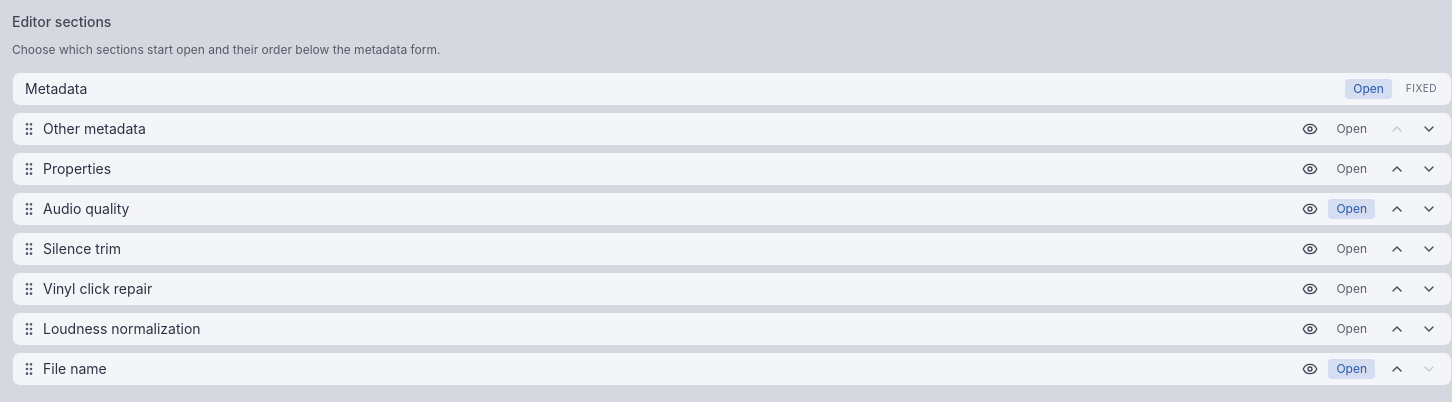
Scenario: LayoutTab sections › hints the eye with the styled tooltip, not a native title
Focus the button with test id "settings-section-hide-properties" at (1310, 168), box [1296, 158, 1324, 178]
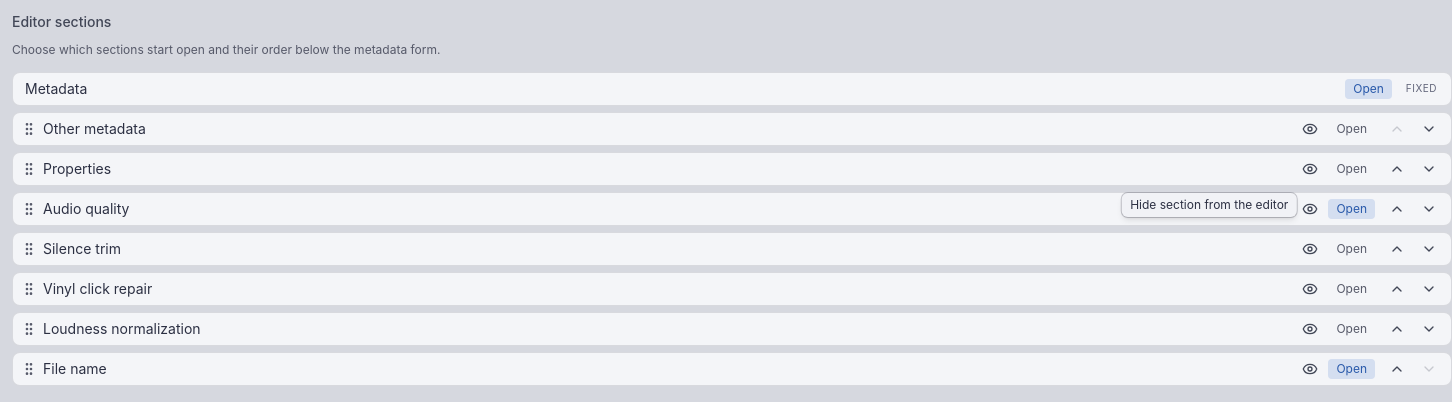
expect the tooltip reads "Hide section from the editor": met, box [1130, 196, 1288, 212]
